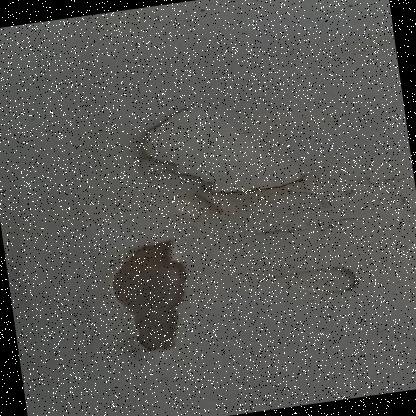Crack: (52, 58, 415, 404), (255, 0, 321, 16)
